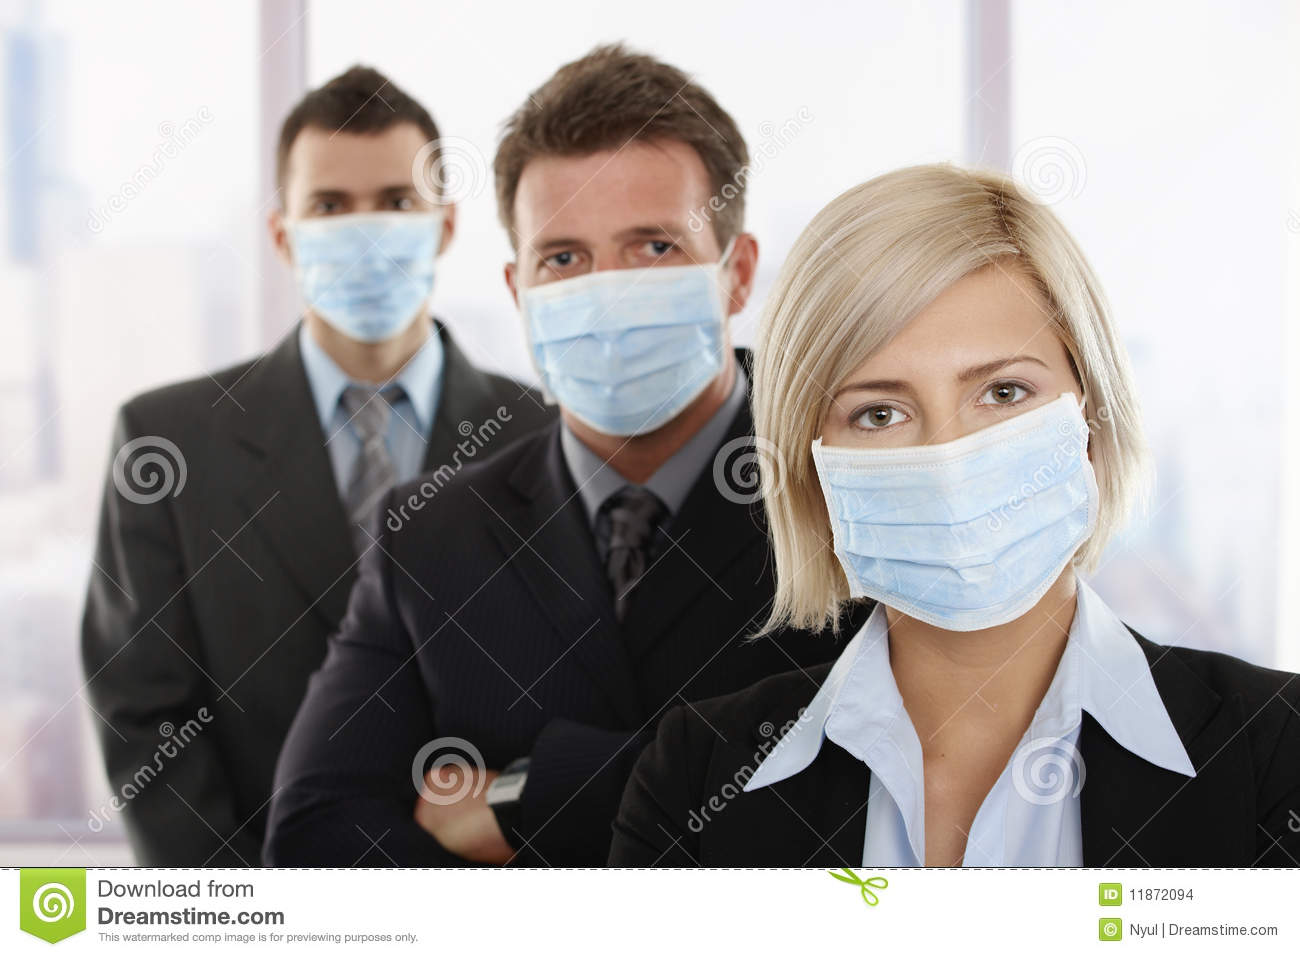mask: (821, 401, 1106, 624), (526, 268, 728, 428)
